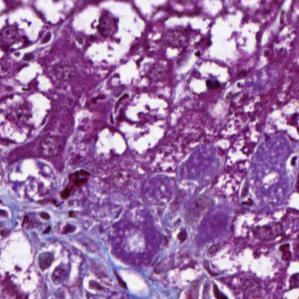inflammation: (72, 0, 150, 63)
